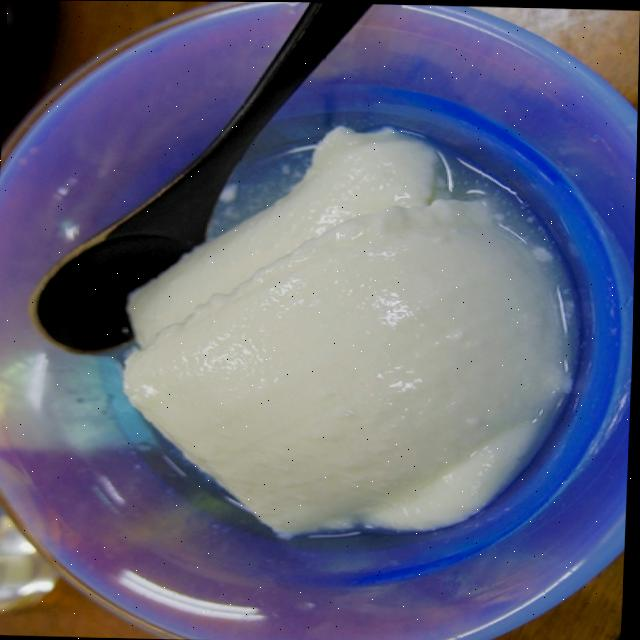米饭主食: (27, 0, 640, 640)
